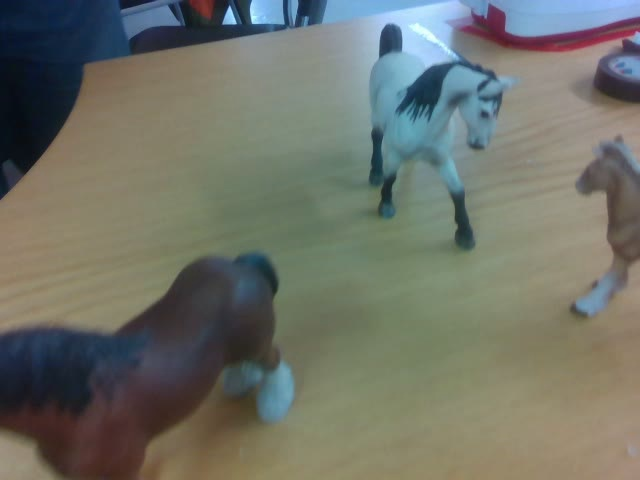toy: (367, 23, 522, 249)
